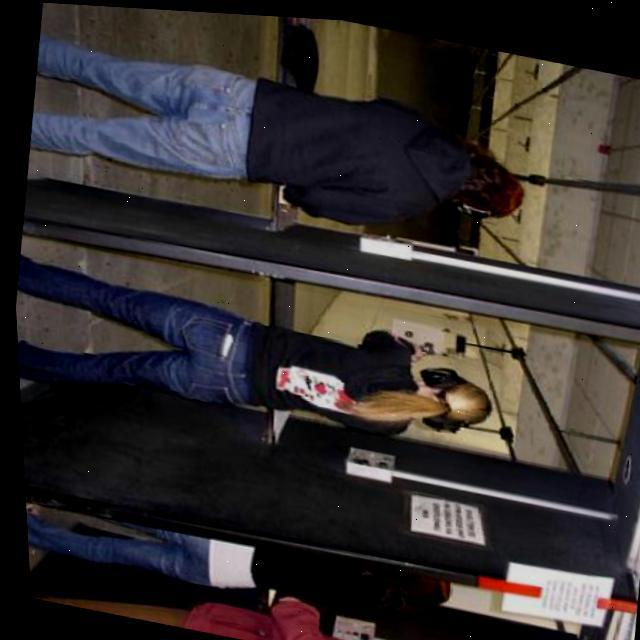gun: (409, 336, 434, 358)
